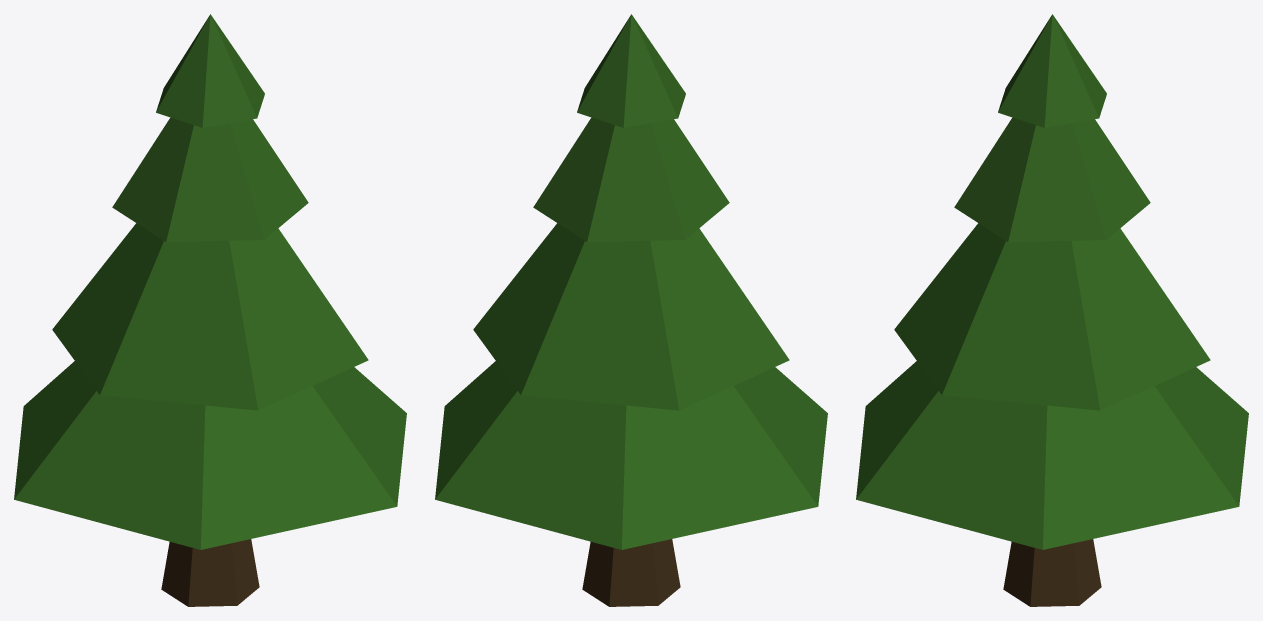
Rendered from PineTree1.fbx.
3 renders of one model, left to right at view 1: azimuth 30°, elevation 25°; view 2: azimuth 150°, elevation 25°; view 3: azimuth 270°, elevation 25°, orthographic.
Parts seen in each view (by area): view 1: Cone.004; view 2: Cone.004; view 3: Cone.004.
Boxes of the visible parts, x1,y1,x2,y2 form: Cone.004: (14, 14, 406, 606); Cone.004: (435, 14, 827, 606); Cone.004: (856, 14, 1248, 606).
Bounding box in the file's own units: 207 × 296 × 184.
